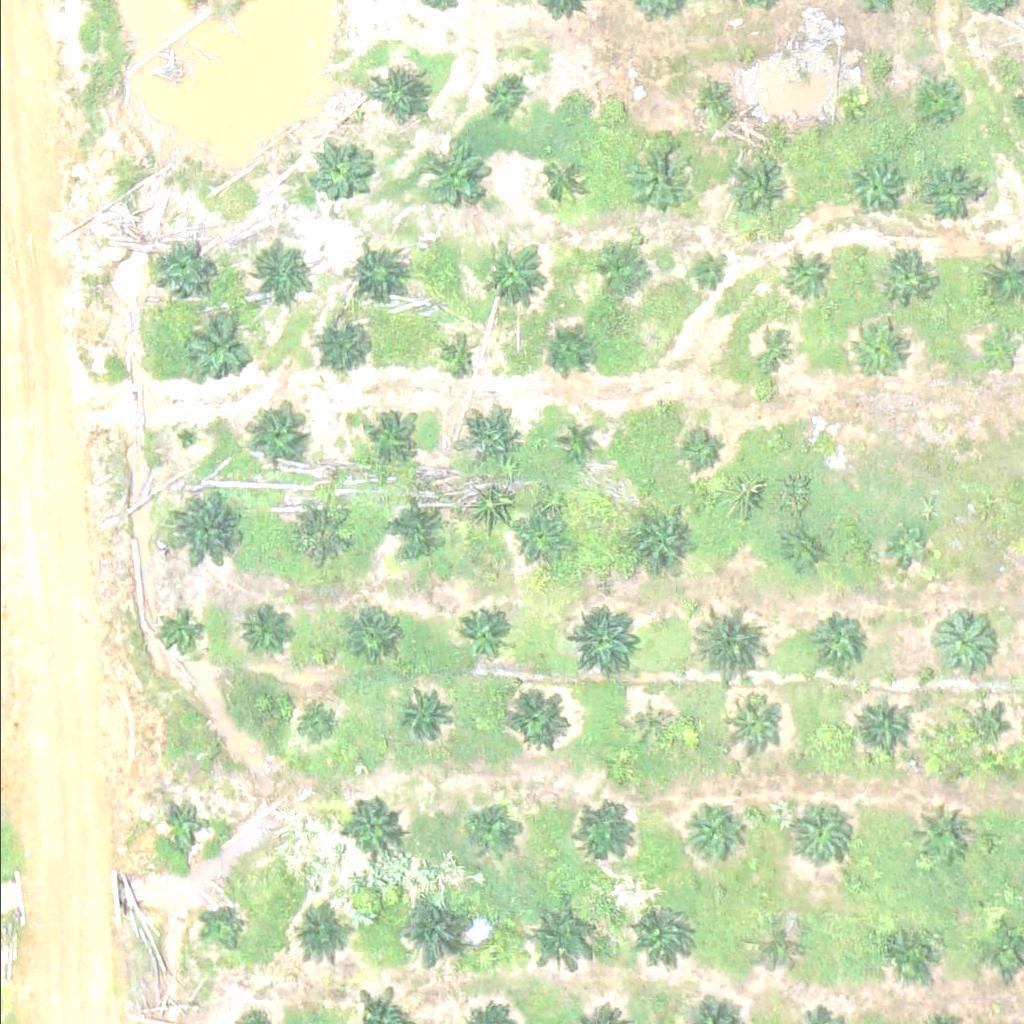Kelapa_Sawit: (629, 143, 705, 218), (520, 897, 596, 972), (167, 490, 243, 565), (180, 304, 256, 379), (687, 602, 762, 677), (573, 604, 648, 679), (389, 895, 464, 970), (463, 403, 526, 466), (422, 140, 485, 203), (935, 608, 998, 671), (917, 162, 980, 225), (501, 684, 564, 747), (394, 689, 457, 752), (245, 237, 308, 300), (313, 136, 376, 199), (244, 404, 307, 467), (148, 236, 211, 299), (283, 903, 346, 966), (335, 795, 398, 858), (481, 239, 544, 301), (625, 507, 688, 569), (808, 609, 871, 671), (725, 154, 788, 216), (851, 692, 914, 754), (571, 802, 634, 864), (629, 905, 692, 967), (907, 802, 970, 864), (874, 922, 937, 984), (787, 800, 850, 862), (676, 804, 739, 866), (722, 694, 785, 756), (285, 503, 348, 565), (368, 59, 431, 121), (839, 159, 901, 221), (344, 244, 406, 306), (316, 311, 378, 373), (510, 509, 561, 559), (459, 604, 510, 654), (346, 608, 397, 658), (197, 908, 248, 958), (155, 802, 206, 852), (288, 701, 339, 751), (389, 504, 439, 554), (918, 74, 968, 124), (883, 255, 933, 305), (851, 325, 901, 375), (588, 238, 638, 288), (466, 803, 516, 853), (236, 603, 286, 653), (366, 408, 416, 458), (749, 918, 799, 968), (155, 609, 205, 659), (541, 324, 591, 374), (532, 155, 582, 205), (475, 70, 525, 120), (692, 78, 742, 128), (955, 698, 1005, 748), (779, 250, 829, 300), (432, 340, 470, 378), (689, 253, 727, 291), (978, 330, 1016, 368), (795, 428, 833, 466), (753, 334, 791, 372), (779, 533, 817, 570), (630, 708, 668, 745), (557, 419, 595, 456), (682, 433, 719, 471), (892, 528, 929, 565), (842, 87, 867, 112), (607, 94, 632, 119)
